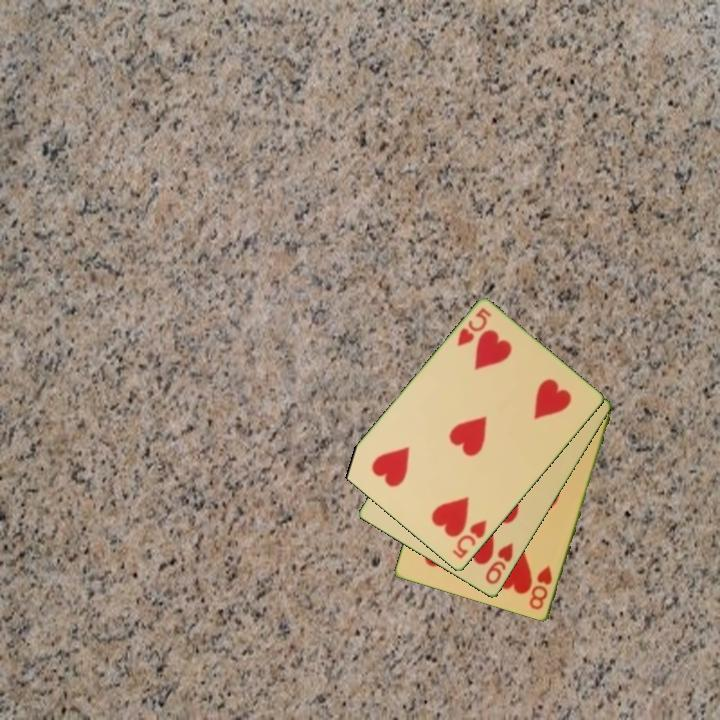5h: (449, 517, 490, 562), (454, 304, 494, 349)
8h: (526, 563, 555, 613)
9h: (482, 539, 516, 588)
